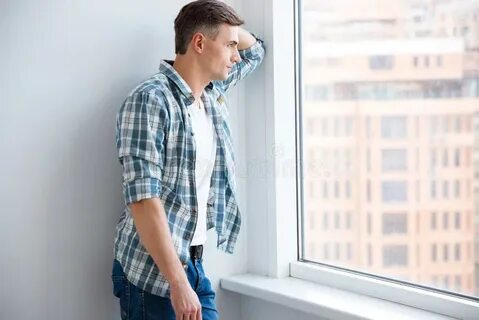awake: (110, 1, 267, 320)
